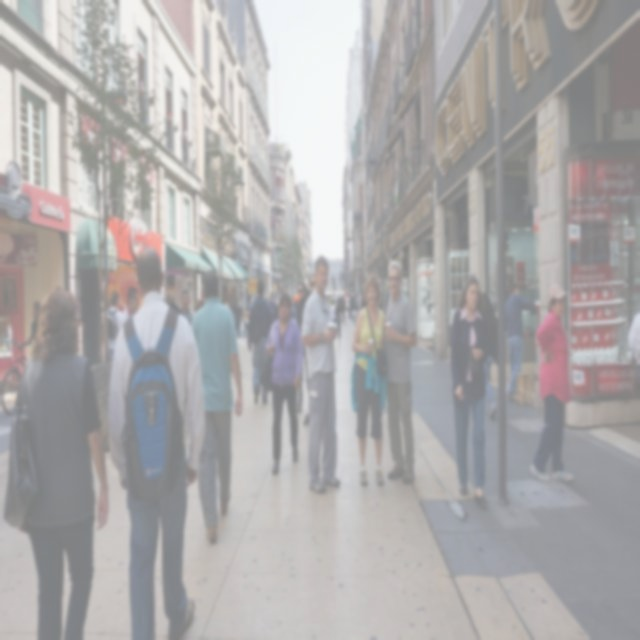pessoa: (108, 242, 208, 640), (1, 282, 111, 639), (186, 268, 244, 542), (448, 273, 491, 508), (528, 281, 576, 484), (300, 254, 340, 495), (380, 258, 418, 487), (349, 272, 388, 490), (264, 288, 304, 476), (504, 283, 538, 401), (247, 278, 274, 406), (480, 292, 498, 421), (302, 272, 316, 429), (296, 281, 310, 414), (99, 289, 122, 362), (18, 300, 44, 350), (117, 285, 141, 333), (627, 310, 640, 398), (290, 294, 300, 366), (178, 288, 194, 324), (232, 296, 243, 338), (267, 288, 279, 324), (334, 298, 344, 339), (240, 306, 250, 338), (329, 299, 336, 324), (224, 286, 234, 302), (378, 292, 385, 313), (341, 294, 346, 322), (355, 294, 360, 320), (345, 294, 350, 318), (361, 293, 368, 310), (352, 295, 356, 321), (197, 298, 205, 310), (305, 286, 311, 301), (351, 294, 354, 319), (348, 294, 351, 319), (358, 292, 362, 310), (358, 296, 362, 314), (192, 304, 197, 316), (344, 292, 347, 310), (339, 292, 343, 302), (341, 294, 351, 298), (329, 295, 332, 307), (327, 294, 330, 305), (326, 294, 334, 298), (275, 298, 278, 306), (333, 292, 337, 298), (336, 294, 340, 300), (376, 300, 379, 308), (278, 298, 280, 308), (292, 296, 294, 306), (224, 302, 228, 307), (276, 292, 278, 300), (266, 296, 268, 301), (356, 295, 358, 299), (345, 308, 346, 312)
